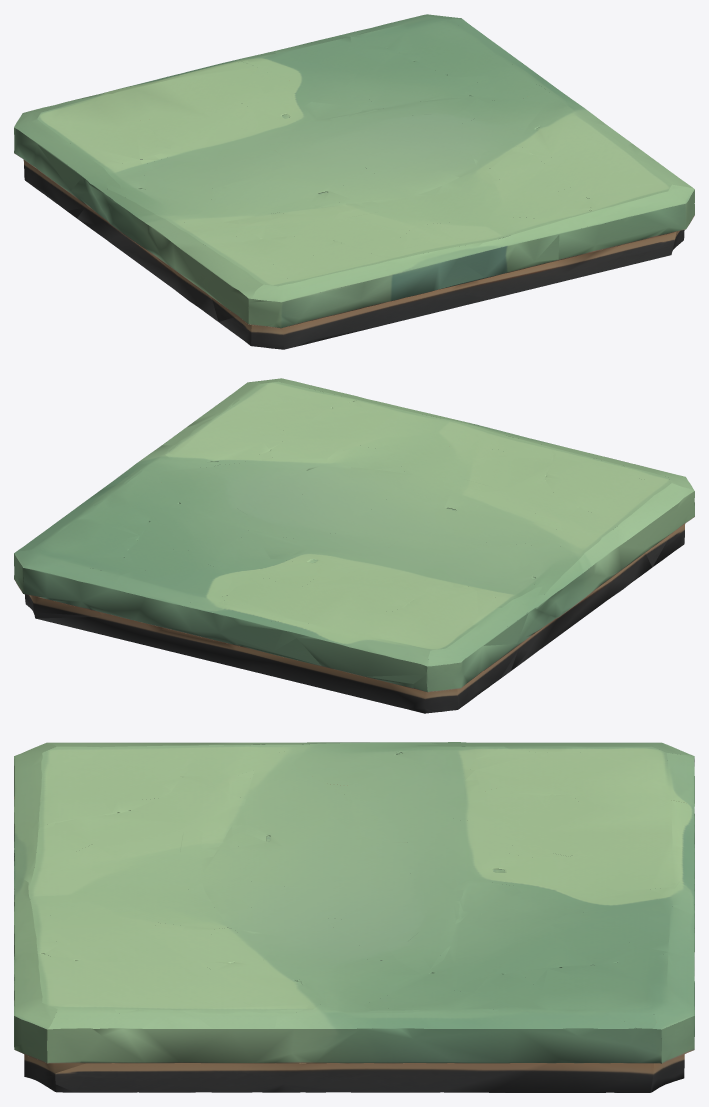
The model's file is PROP_C1_GRASS_game.glb.
The picture shows the model from 3 angles, top to bottom: view 1: azimuth 30°, elevation 25°; view 2: azimuth 150°, elevation 25°; view 3: azimuth 270°, elevation 25°; orthographic projection. The views are drawn at different scales.
Visible parts, largest first — view 1: PROP_C1_GRASS; view 2: PROP_C1_GRASS; view 3: PROP_C1_GRASS.
Boxes of the visible parts, x1,y1,x2,y2 form: PROP_C1_GRASS: [14, 14, 694, 349]; PROP_C1_GRASS: [14, 378, 694, 713]; PROP_C1_GRASS: [14, 742, 694, 1092].
Size of the model in its own units: 4 by 0.5002 by 4.
1 material, 1 textured.
